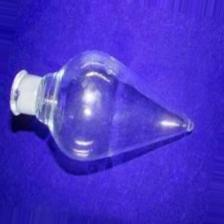Pear shaped flask: (4, 49, 201, 166)
